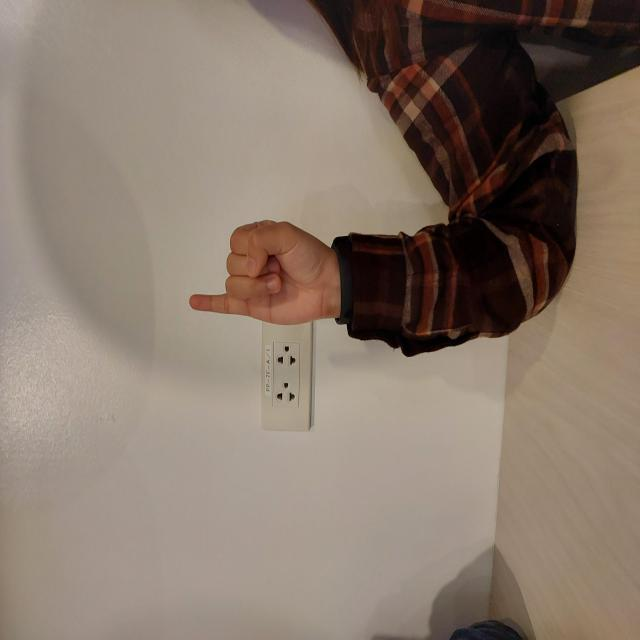I: (312, 187, 424, 343)
